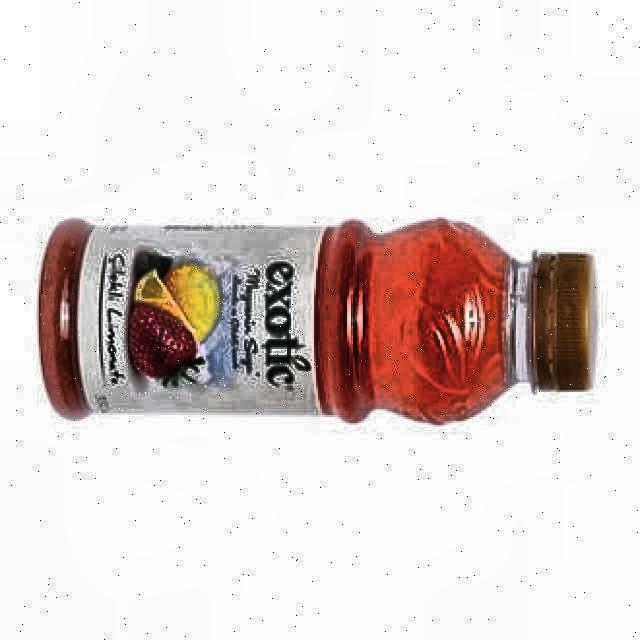plastic: (38, 219, 595, 422)
